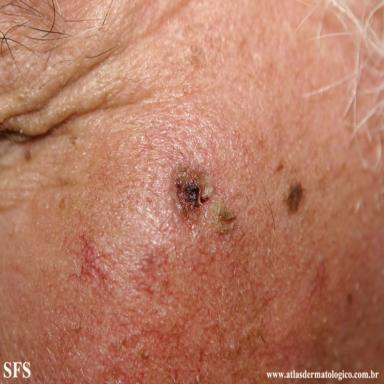basal-cell-carcinoma: (174, 168, 213, 219)
